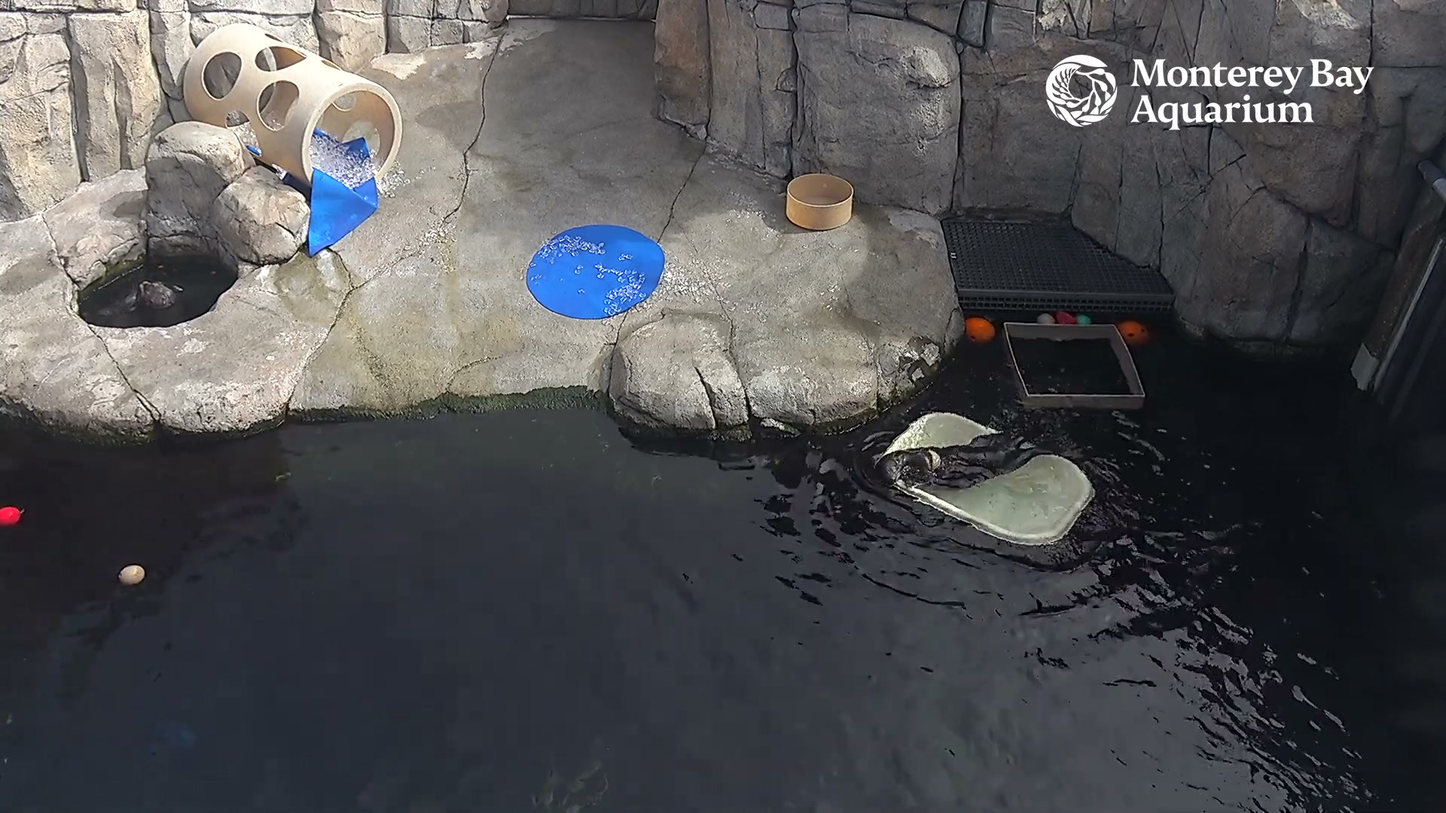Southern Sea Otter: (841, 427, 1057, 503), (106, 268, 189, 328)
